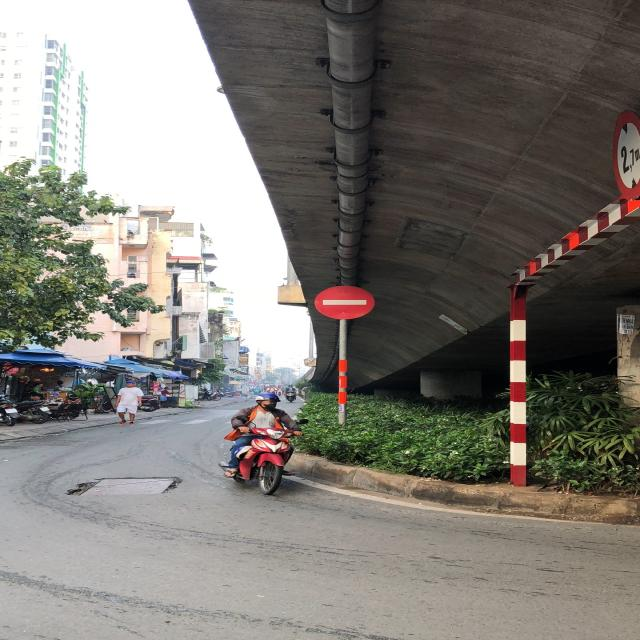Bien bao cam di nguoc chieu: (309, 281, 383, 322)
